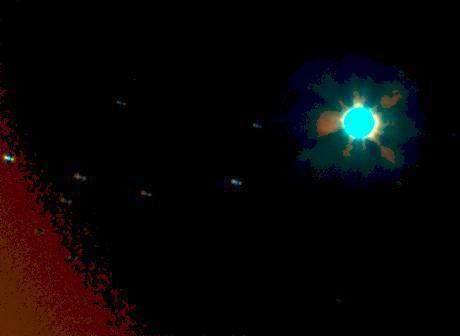star: (345, 87, 375, 117)
